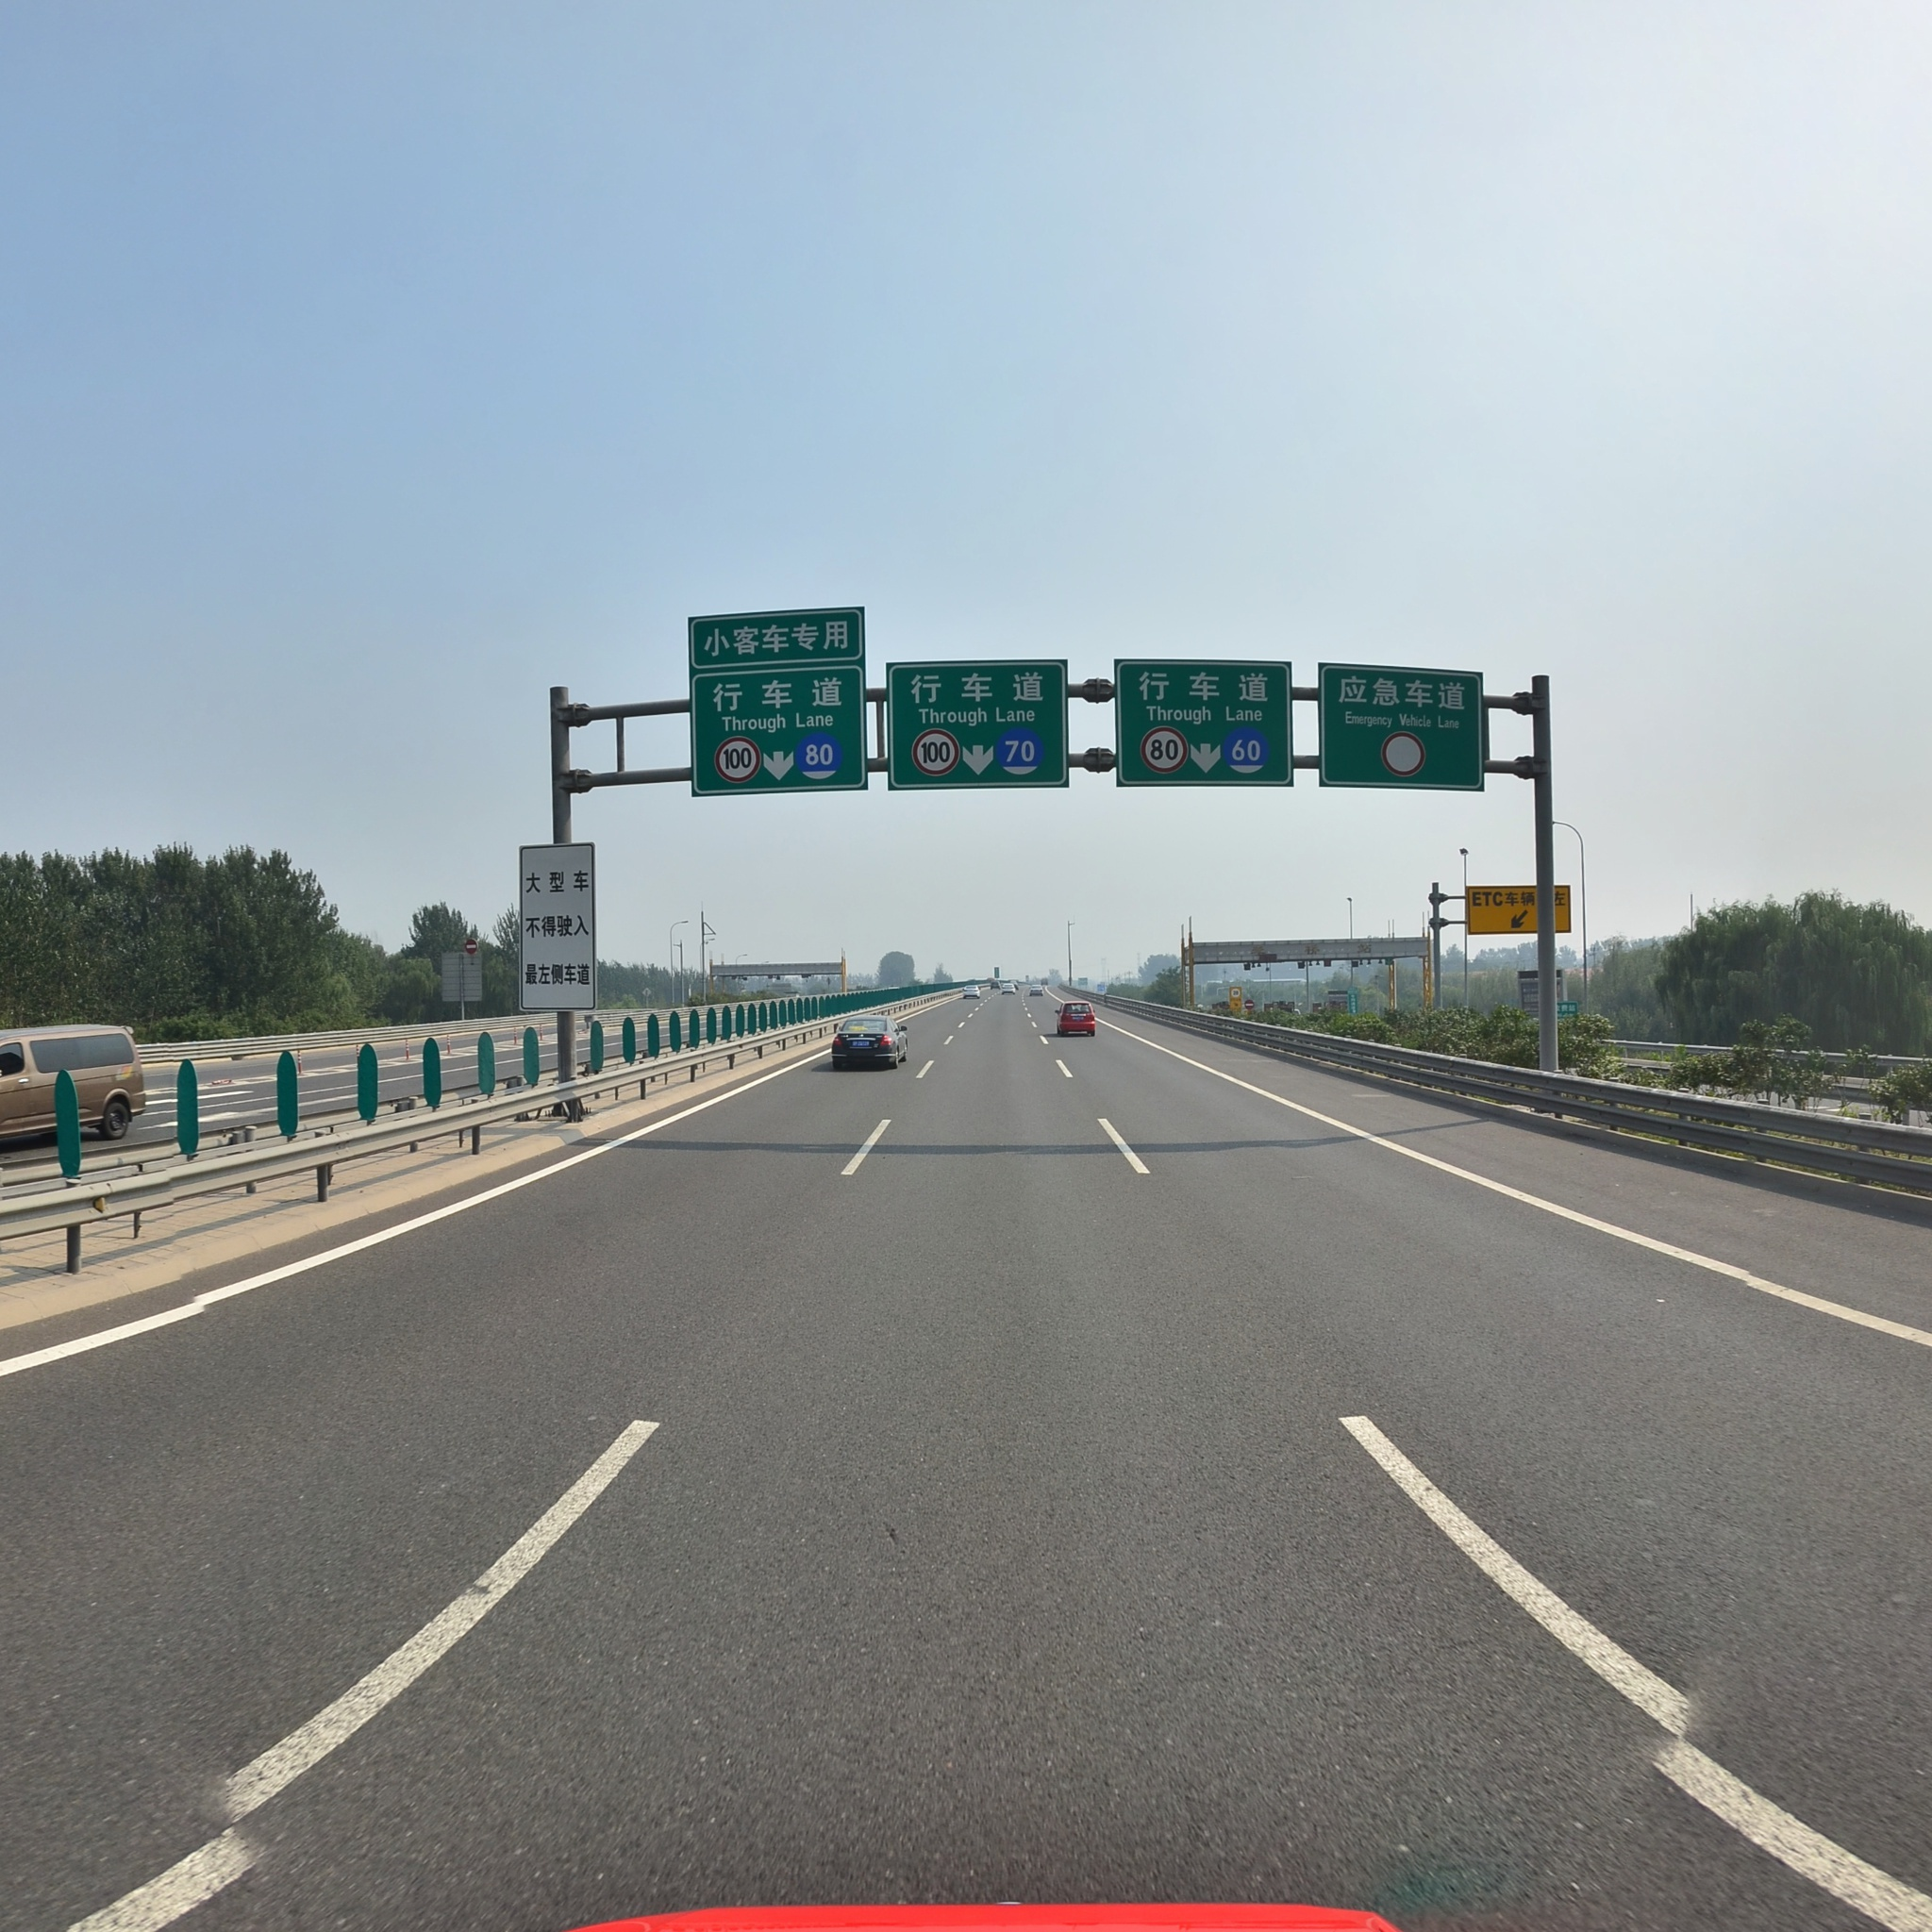il60: (1223, 725, 1269, 775)
il70: (996, 729, 1042, 775)
il80: (796, 732, 842, 778)
pb: (1382, 731, 1424, 777)
pl100: (911, 727, 959, 775), (715, 734, 761, 784)
pl80: (1139, 725, 1187, 773)
pne: (462, 936, 478, 954)
